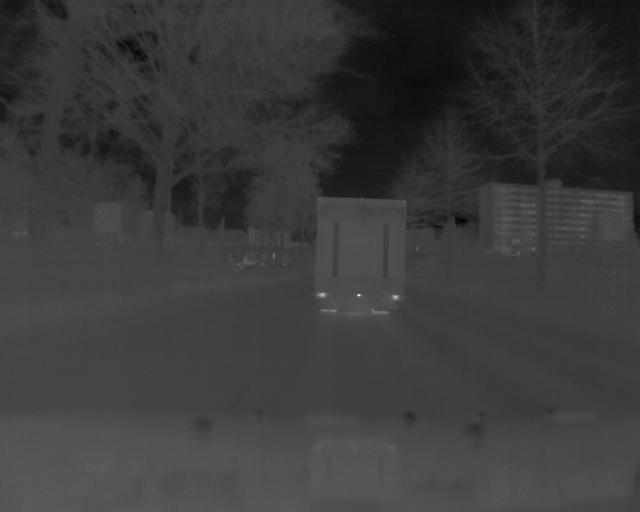car: (316, 194, 408, 320)
